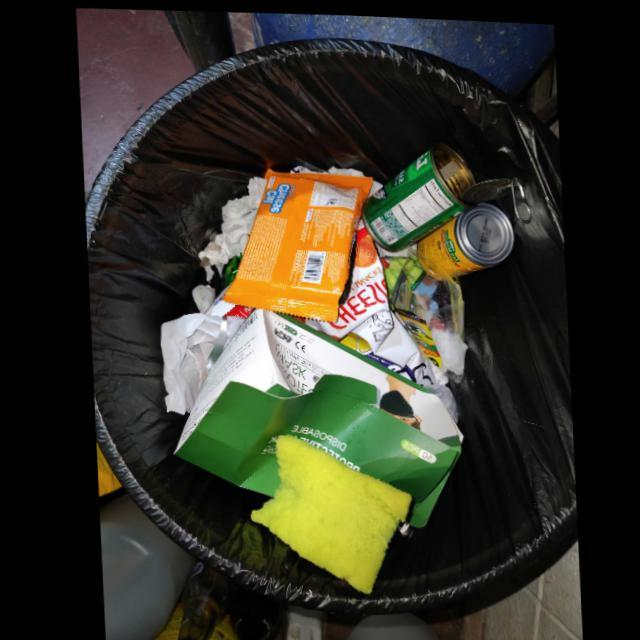aluminum: (362, 141, 531, 247), (413, 197, 512, 276)
cardboard: (172, 305, 462, 523)
food_wrapper: (220, 165, 370, 317), (303, 224, 446, 383)
paper: (157, 301, 228, 412), (196, 174, 265, 264)
plastic_sachet: (394, 311, 439, 363)
